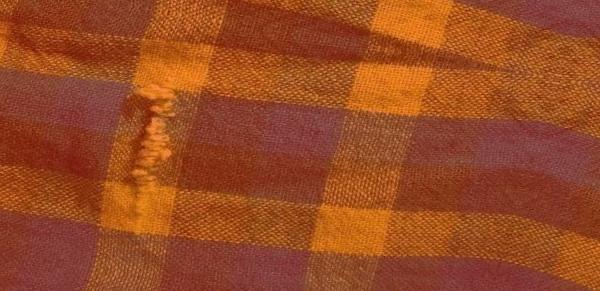knot: (119, 83, 178, 221)
